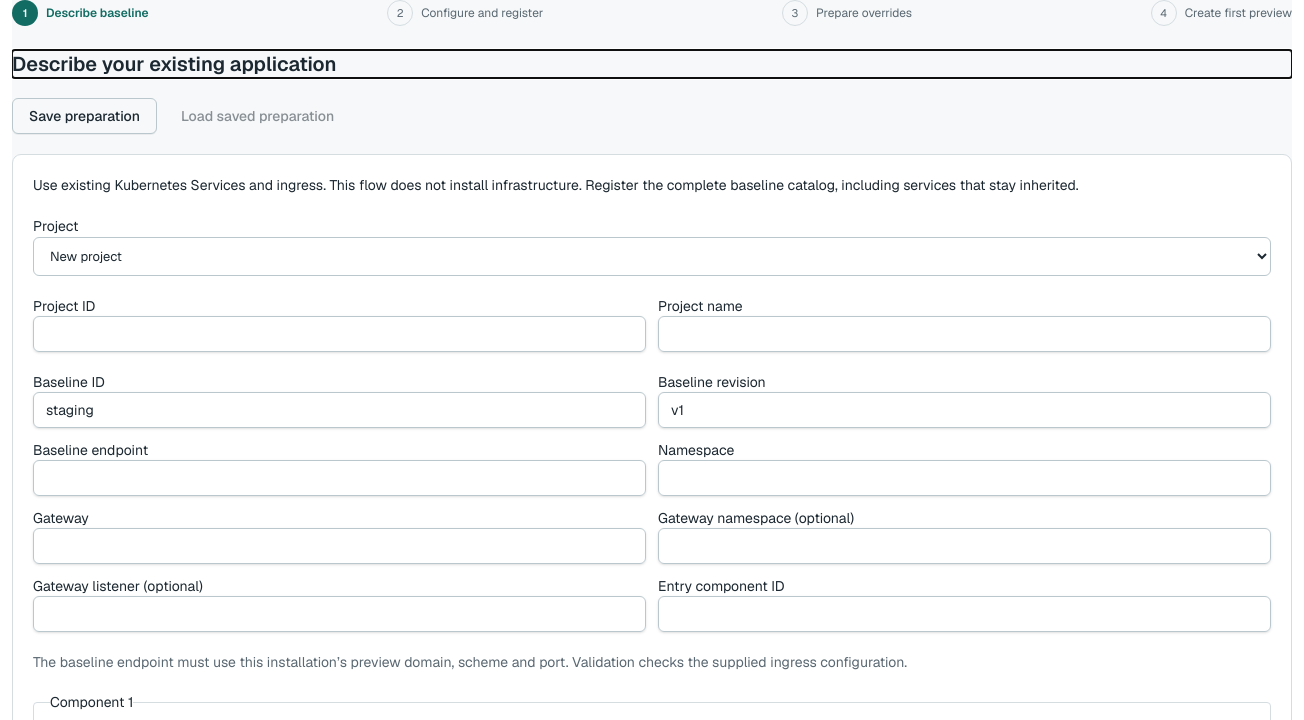
Test: loads a componentless draft saved by another client
The image size is (1304, 720).
Step 1. Type "shop" into the field labelled "Project ID" → point(340, 334), box [33, 316, 646, 352]
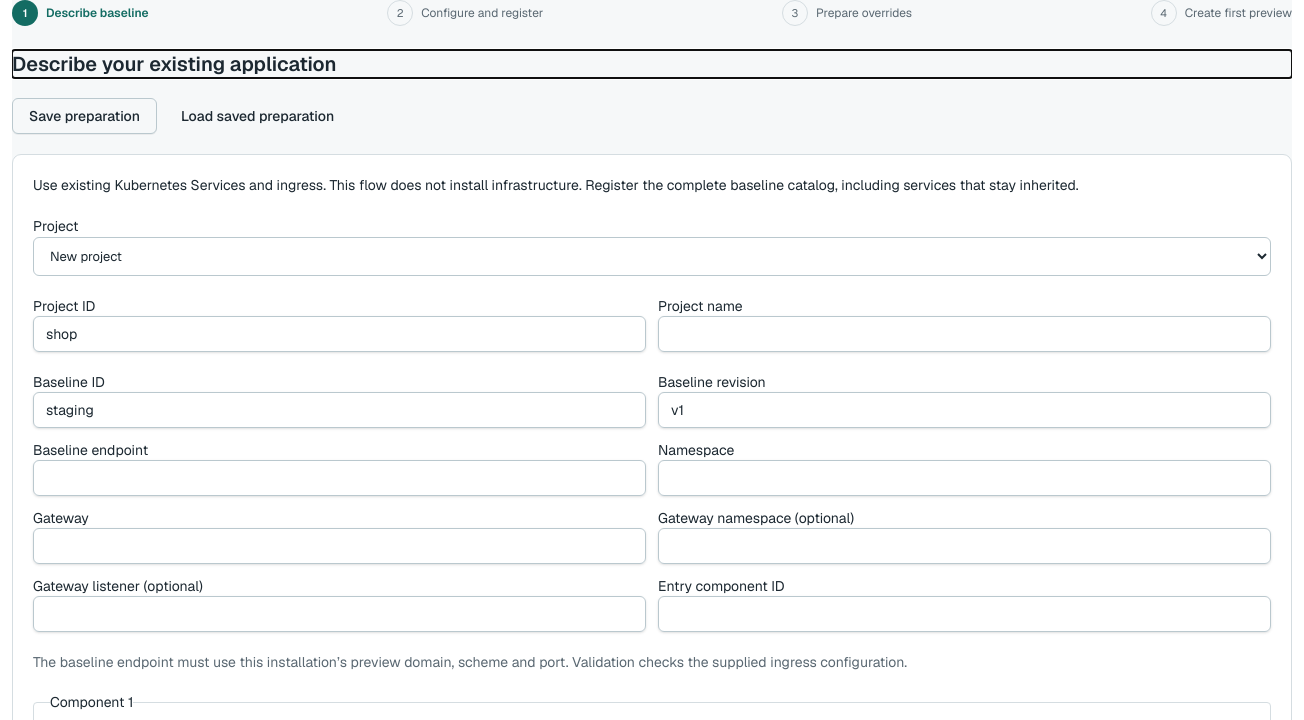
Step 2. Click the button "Load saved preparation" → point(258, 116), box [165, 98, 350, 134]
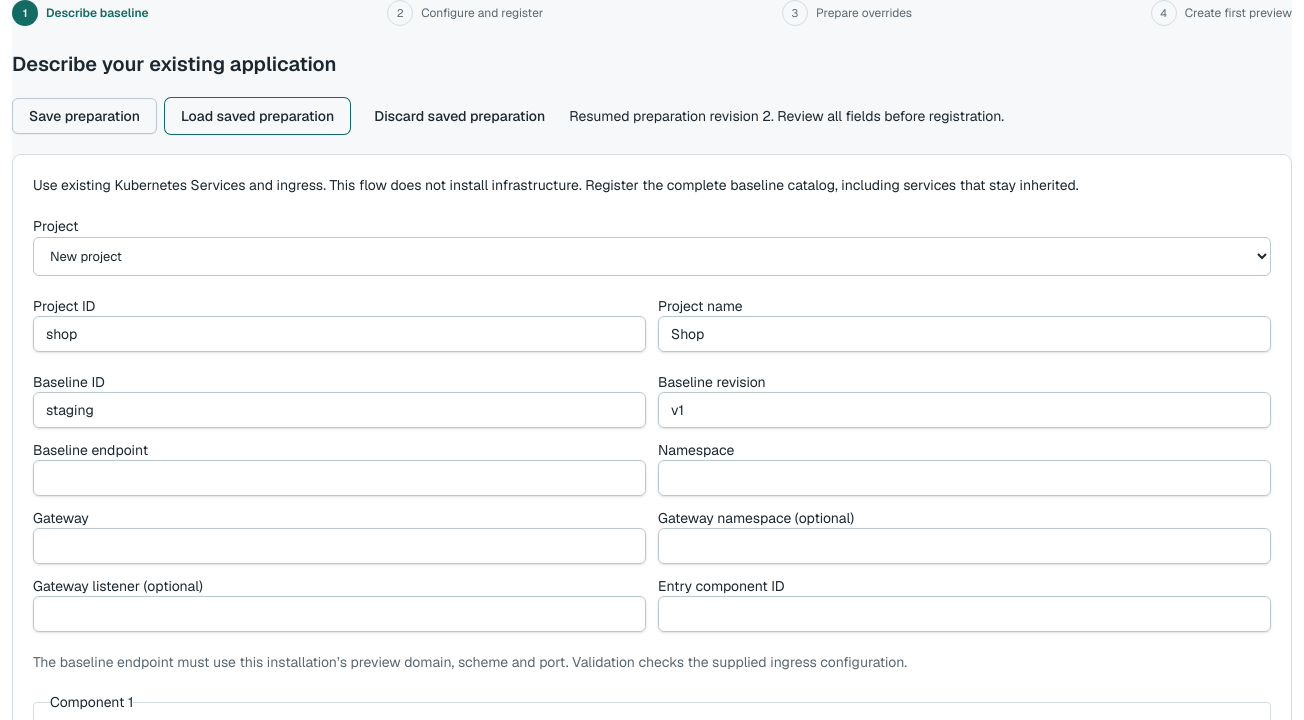
Expected: the text "Resumed preparation revision 2. Review all fields before registration." is shown, [569, 106, 1004, 126]
